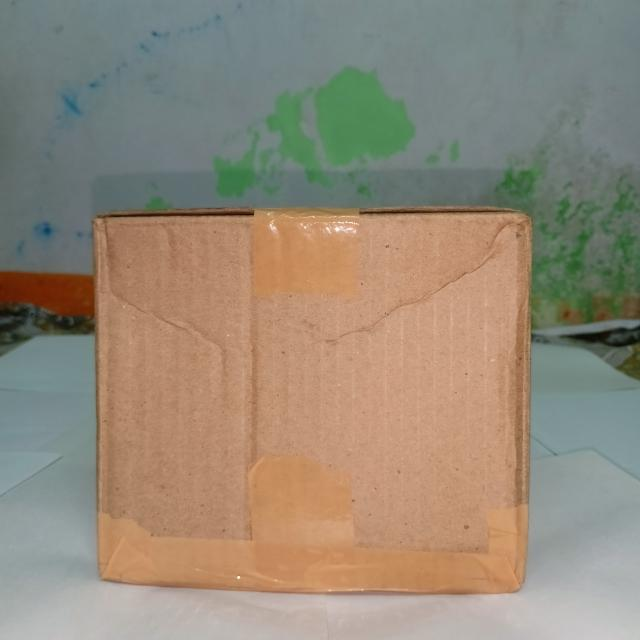box: (93, 209, 535, 598)
